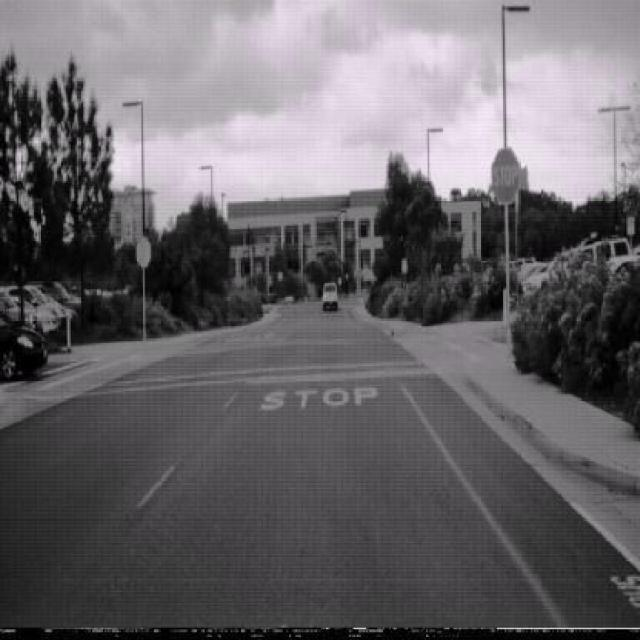stop: (491, 144, 520, 204)
